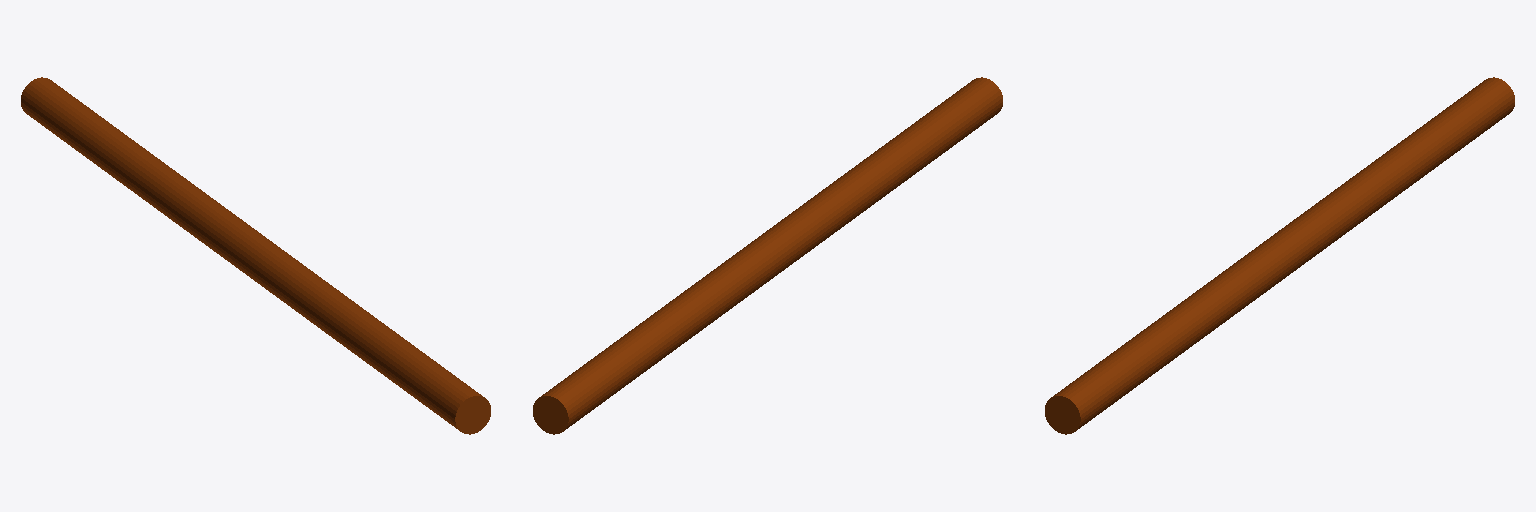
URDF robot description (cylinder):
<?xml version="1.0" ?>
<!-- =================================================================================== -->
<!-- |    This document was autogenerated by xacro from cylinder.xacro                 | -->
<!-- |    EDITING THIS FILE BY HAND IS NOT RECOMMENDED                                 | -->
<!-- =================================================================================== -->
<robot name="cylinder">
  <link name="world"/>
  <link name="base">
    <visual>
      <origin rpy="1.57079633 0 0" xyz="0 0 0"/>
      <geometry>
        <cylinder length="7.07106781185" radius="0.17"/>
      </geometry>
      <material name="cylinder_material">
        <color rgba="0.545 0.271 0.075 1.0"/>
        <texture filename="../textures/tree_bark.jpg"/>
      </material>
    </visual>
    <collision>
      <origin rpy="1.57079633 0 0" xyz="0 0 0"/>
      <geometry>
        <cylinder length="7.07106781185" radius="0.17"/>
      </geometry>
    </collision>
    <inertial>
      <origin rpy="0 0 0" xyz="0 0 0"/>
      <mass value="1"/>
      <inertia ixx="4.173891666648428" ixy="0.0" ixz="0.0" iyy="4.173891666648428" iyz="0.0" izz="24.999999999890573"/>
    </inertial>
  </link>
  <joint name="base_joint" type="fixed">
    <parent link="world"/>
    <child link="base"/>
    <origin rpy="0 0 0" xyz="0.0 0.0 0.0"/>
  </joint>
</robot>

--- What the picture shows (computed from the rendered views, not written in the file) ---
Views: 3 orthographic renders of the robot side by side, from view 1: azimuth 30°, elevation 25°; view 2: azimuth 150°, elevation 25°; view 3: azimuth 330°, elevation 25°.
Robot: cylinder — 2 links, 1 joints (1 fixed); root link world; default pose: all joints at 0.
Links seen in each view (by area): view 1: base; view 2: base; view 3: base.
Link boxes in pixels (left/top/right/bottom): base: left=21, top=77, right=490, bottom=434; base: left=533, top=77, right=1002, bottom=434; base: left=1045, top=77, right=1514, bottom=434.
Bounding box of the posed robot: 0.34 × 7.07 × 0.34 m (x, y, z).
Geometry: primitives only (box / cylinder / sphere), no mesh files.
